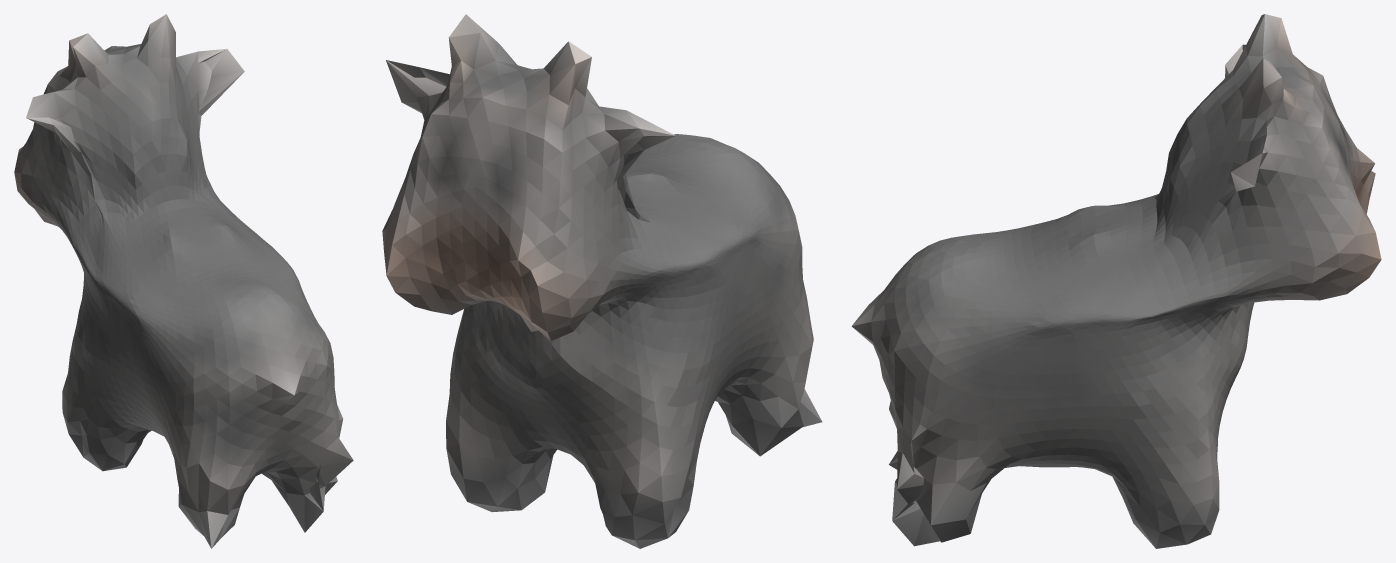
Rendered from colored_mesh_iter_0600.obj.
3 renders of one model, left to right at view 1: azimuth 30°, elevation 25°; view 2: azimuth 150°, elevation 25°; view 3: azimuth 270°, elevation 25°, orthographic. The views are drawn at different scales.
Bounding box in the file's own units: 1.1 × 2.03 × 1.98.
